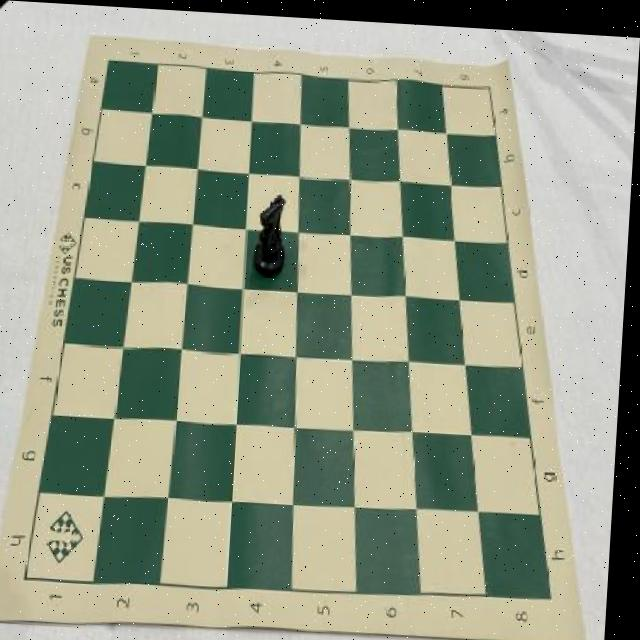black-king: (254, 191, 291, 275)
